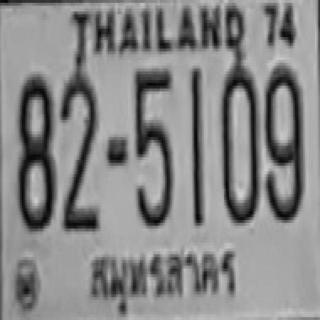N00: (221, 63, 258, 220)
N01: (188, 67, 202, 224)
N02: (61, 70, 98, 230)
N05: (133, 66, 172, 226)
N08: (16, 73, 53, 230)
N09: (264, 63, 302, 220)
P58: (84, 244, 243, 313)
